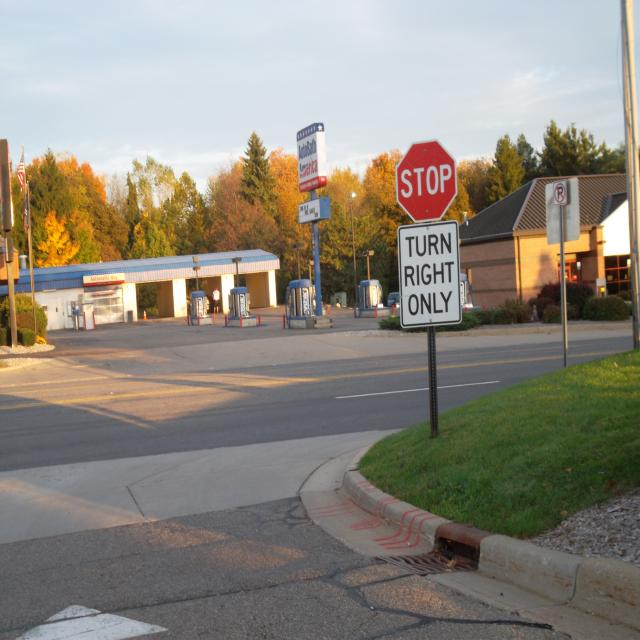regulatory: (396, 219, 463, 330), (552, 179, 568, 206)
stop: (392, 129, 458, 225)
